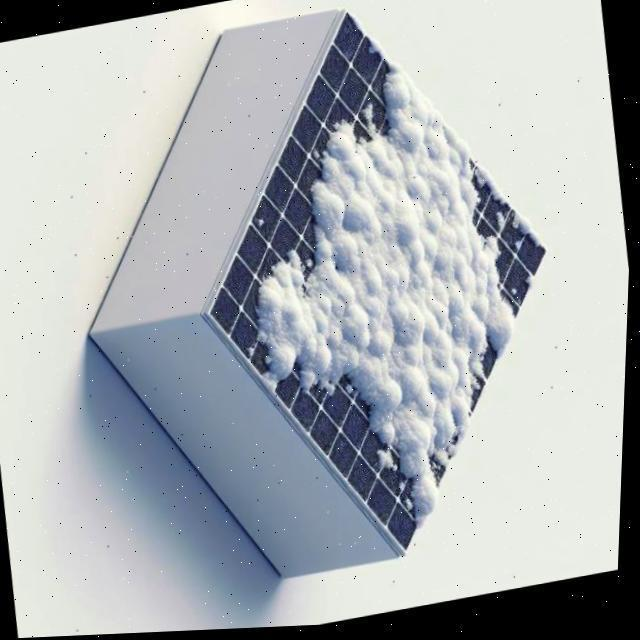Anomaly Solar Panel: (149, 12, 611, 555)
Snow: (158, 9, 614, 532), (473, 167, 516, 212), (510, 216, 549, 252), (493, 212, 512, 234)
